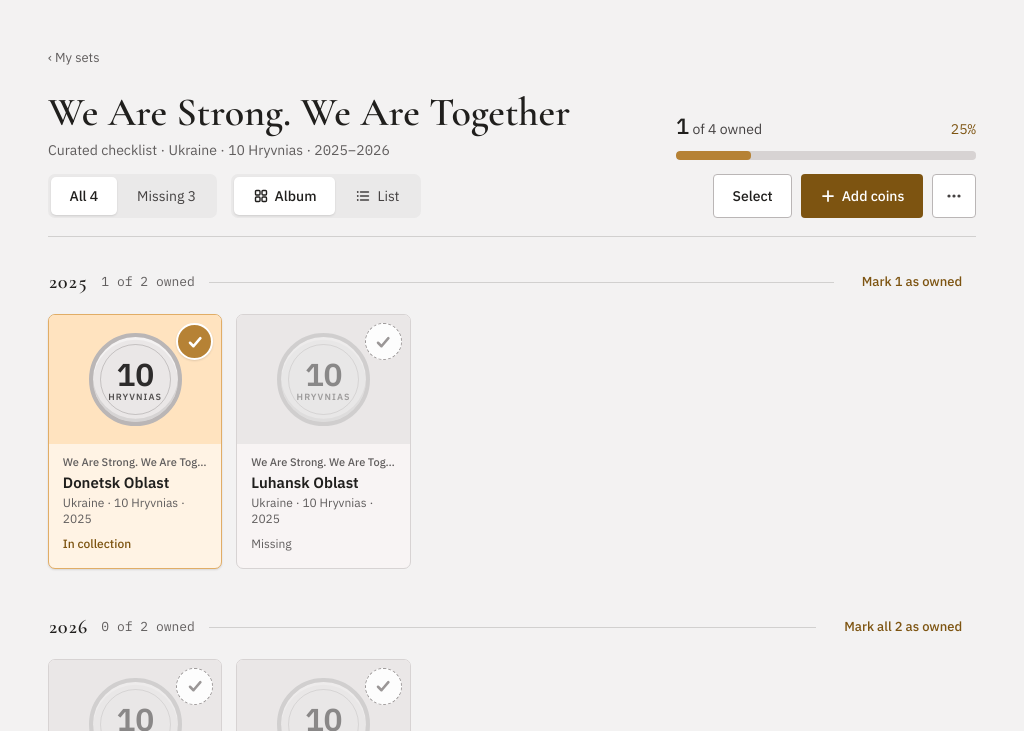
Test: SetEditorPage: Album default, views and year groups › view is kept in the URL (replaceState, never a router push) › selecting List shows the list and writes ?view=list
Check: the 1st list with test id "set-album-grid" is shown, box top-left (48, 314), bottom-right (411, 569)
Click the button with test id "set-editor-view-list-toggle" at (377,196), box top-left (337, 177), bottom-right (418, 215)
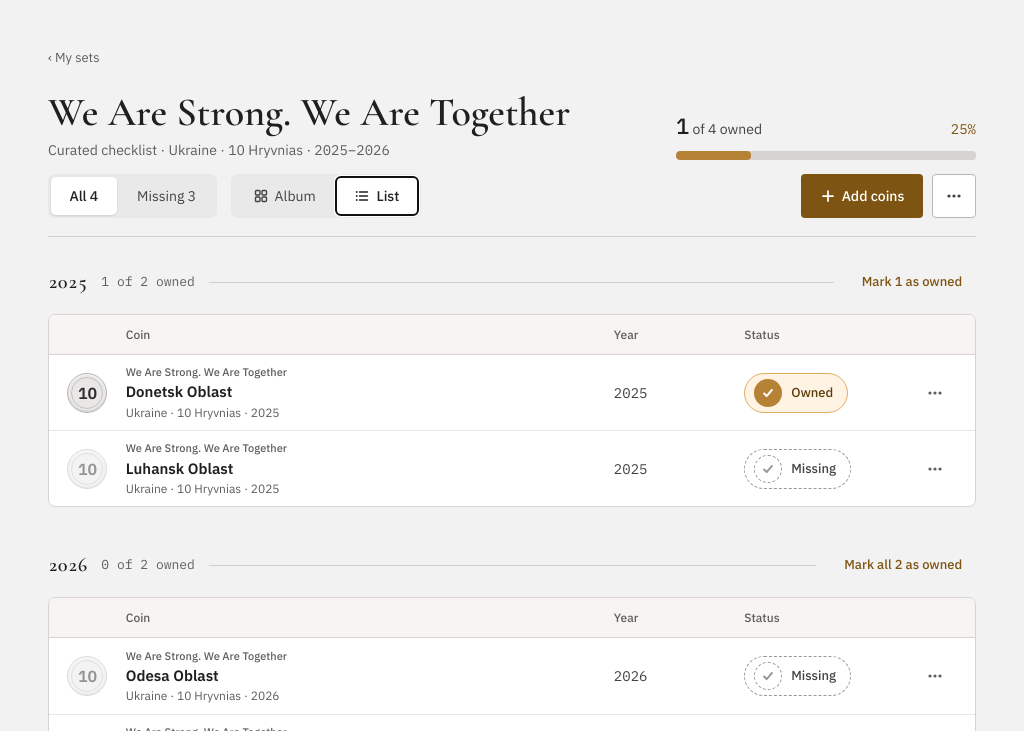
Check: the 1st element with test id "set-coin-list" is shown, box top-left (48, 314), bottom-right (976, 507)
Check: the list with test id "set-album-grid" is gone
